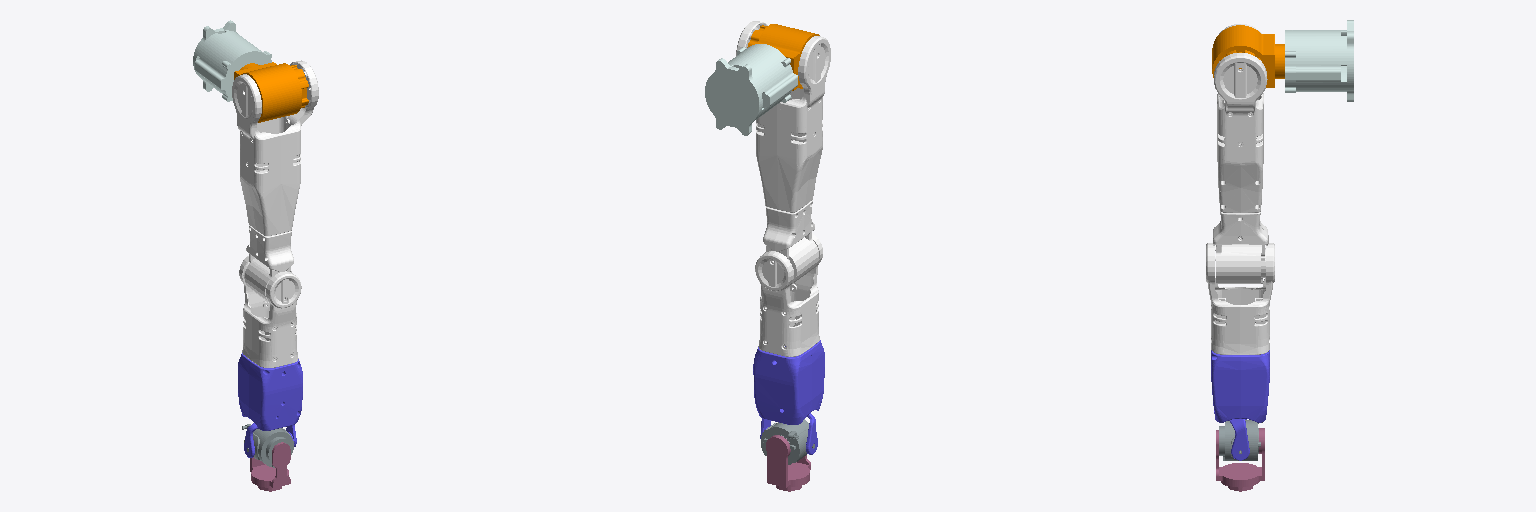
URDF robot description (yam_7dof_right):
<?xml version="1.0" ?>
<!-- Generated using onshape-to-robot -->
<!-- Onshape document_id: a30d2ef2655863e671c75240 -->
<!-- onshape-heading: v1 applied 2026-09-17; rpy="0 1.5707963267948966 -1.5707963267948966"; tool=.claude/skills/transform-onshape-urdf/scripts/apply_urdf_heading.py -->
<!-- i2rt-port: v1 applied 2026-09-17; joint1/3/5/6 axes re-signed (<limit> negated and swapped with each) so the home-pose world axes are -y -x -z -y -z -x -y; joint7 origin right-multiplied by Rz(180) so the terminal `gripper` block carries over unchanged. That block is not export data: it is the canonical linear_4310 plus the split wrist, spliced in from the previous model. -->
<robot name="yam_7dof_right">
    <link name="base">
        <inertial>
            <origin xyz="1.95071e-05 -0.0497882 -3.13786e-05" rpy="0 1.57079632679 -1.57079632679" />
            <mass value="1.28789" />
            <inertia ixx="0.00160702" ixy="6.64e-10" ixz="1.53831e-06" iyy="0.00153482" iyz="-9.41377e-07" izz="0.00129912" />
        </inertial>
        <visual>
            <origin xyz="0 -0.1565 -0.112133" rpy="0 1.57079632679 -1.57079632679" />
            <geometry>
                <mesh filename="assets/base.stl" />
            </geometry>
            <material name="base_material">
                <color rgba="0.862745 0.937255 0.929412 1" />
            </material>
        </visual>
        <collision>
            <origin xyz="0 -0.1565 -0.112133" rpy="0 1.57079632679 -1.57079632679" />
            <geometry>
                <mesh filename="assets/base.stl" />
            </geometry>
        </collision>
    </link>
    <link name="link1">
        <inertial>
            <origin xyz="-0 -0.00383646 -0.0549694" rpy="0 0 0" />
            <mass value="1.0034" />
            <inertia ixx="0.00109454" ixy="-0" ixz="0" iyy="0.000939051" iyz="-3.052e-05" izz="0.000841783" />
        </inertial>
        <visual>
            <origin xyz="0.112133 -0 -0.062" rpy="3.14159 -0 -0" />
            <geometry>
                <mesh filename="assets/link1.stl" />
            </geometry>
            <material name="link1_material">
                <color rgba="1 0.6 0 1" />
            </material>
        </visual>
        <collision>
            <origin xyz="0.112133 -0 -0.062" rpy="3.14159 -0 -0" />
            <geometry>
                <mesh filename="assets/link1.stl" />
            </geometry>
        </collision>
    </link>
    <link name="link2">
        <inertial>
            <origin xyz="0.106908 8.70615e-07 0.0475462" rpy="0 0 0" />
            <mass value="0.95628" />
            <inertia ixx="0.00160881" ixy="-1.0518e-08" ixz="-0.000241694" iyy="0.00577331" iyz="1.6171e-08" izz="0.0052621" />
        </inertial>
        <visual>
            <origin xyz="0.112133 0 0.0501" rpy="-1.5708 -0 0" />
            <geometry>
                <mesh filename="assets/link2.stl" />
            </geometry>
            <material name="link2_material">
                <color rgba="1 1 1 1" />
            </material>
        </visual>
        <collision>
            <origin xyz="0.112133 0 0.0501" rpy="-1.5708 -0 0" />
            <geometry>
                <mesh filename="assets/link2.stl" />
            </geometry>
        </collision>
    </link>
    <link name="link3">
        <inertial>
            <origin xyz="-0.0011414 -2.4009e-05 -0.0698293" rpy="0 0 0" />
            <mass value="0.83983" />
            <inertia ixx="0.00095532" ixy="6.858e-08" ixz="-2.41461e-05" iyy="0.00109338" iyz="1.08025e-06" izz="0.00045315" />
        </inertial>
        <visual>
            <origin xyz="-0 -0 0.106867" rpy="1.5708 1.5708 0" />
            <geometry>
                <mesh filename="assets/link3.stl" />
            </geometry>
            <material name="link3_material">
                <color rgba="1 1 1 1" />
            </material>
        </visual>
        <collision>
            <origin xyz="-0 -0 0.106867" rpy="1.5708 1.5708 0" />
            <geometry>
                <mesh filename="assets/link3.stl" />
            </geometry>
        </collision>
    </link>
    <link name="link4">
        <inertial>
            <origin xyz="0.0654359 9.05861e-07 0.0354242" rpy="0 0 0" />
            <mass value="0.66056" />
            <inertia ixx="0.00105591" ixy="-1.368e-08" ixz="-2.38897e-06" iyy="0.00199688" iyz="-6.15e-09" izz="0.00160454" />
        </inertial>
        <visual>
            <origin xyz="-0.196267 0 0.0354495" rpy="-1.5708 -0 -0" />
            <geometry>
                <mesh filename="assets/link4.stl" />
            </geometry>
            <material name="link4_material">
                <color rgba="1 1 1 1" />
            </material>
        </visual>
        <collision>
            <origin xyz="-0.196267 0 0.0354495" rpy="-1.5708 -0 -0" />
            <geometry>
                <mesh filename="assets/link4.stl" />
            </geometry>
        </collision>
    </link>
    <link name="link5">
        <inertial>
            <origin xyz="-0.00468947 -0.000452694 -0.0656789" rpy="0 0 0" />
            <mass value="0.6884" />
            <inertia ixx="0.001363" ixy="4.02887e-06" ixz="-6.7093e-05" iyy="0.00128827" iyz="-1.19113e-05" izz="0.000864955" />
        </inertial>
        <visual>
            <origin xyz="5.21807e-07 0 0.319767" rpy="1.5708 1.5708 0" />
            <geometry>
                <mesh filename="assets/link5.stl" />
            </geometry>
            <material name="link5_material">
                <color rgba="0.447059 0.415686 1 1" />
            </material>
        </visual>
        <collision>
            <origin xyz="5.21807e-07 0 0.319767" rpy="1.5708 1.5708 0" />
            <geometry>
                <mesh filename="assets/link5.stl" />
            </geometry>
        </collision>
    </link>
    <link name="link6">
        <inertial>
            <origin xyz="-6.47372e-05 0.000188696 -0.038139" rpy="0 0 0" />
            <mass value="0.4074" />
            <inertia ixx="0.000183696" ixy="1.99675e-06" ixz="-1.07788e-06" iyy="0.00017194" iyz="1.27128e-06" izz="0.000168067" />
        </inertial>
        <visual>
            <origin xyz="-0.467267 5.21807e-07 -0.038" rpy="-0 -0 0" />
            <geometry>
                <mesh filename="assets/link6.stl" />
            </geometry>
            <material name="link6_material">
                <color rgba="0.611765 0.658824 0.670588 1" />
            </material>
        </visual>
        <collision>
            <origin xyz="-0.467267 5.21807e-07 -0.038" rpy="-0 -0 0" />
            <geometry>
                <mesh filename="assets/link6.stl" />
            </geometry>
        </collision>
    </link>
    <link name="gripper">
        <inertial>
            <origin xyz="-0.0982143 0.0003297066 0.025387629" rpy="0 0 0" />
            <mass value="0.553219" />
            <inertia ixx="0.000369248826123" ixy="-7.91271674801e-07" ixz="4.83956503021e-06" iyy="0.000409668107867" iyz="5.44942466283e-07" izz="0.00032494206601" />
        </inertial>
        <visual>
            <origin xyz="0.004199 0.014294 0.0720365" rpy="-1.57079632679 0 -1.57079632679" />
            <geometry>
                <mesh filename="assets/gripper.stl" />
            </geometry>
            <material name="gripper_material">
                <color rgba="0.109804 0.286275 0.0117647 1" />
            </material>
        </visual>
        <collision>
            <origin xyz="0.004199 0.014294 0.0720365" rpy="-1.57079632679 0 -1.57079632679" />
            <geometry>
                <mesh filename="assets/gripper.stl" />
            </geometry>
        </collision>
        <visual>
            <origin xyz="-0.398708 0.192838 -1.68458" rpy="0.126639 0.261799 0" />
            <geometry>
                <mesh filename="assets/wrist.stl" />
            </geometry>
            <material name="wrist_material">
                <color rgba="0.694118 0.458824 0.576471 1" />
            </material>
        </visual>
        <collision>
            <origin xyz="-0.398708 0.192838 -1.68458" rpy="0.126639 0.261799 0" />
            <geometry>
                <mesh filename="assets/wrist.stl" />
            </geometry>
        </collision>
    </link>
    <link name="tip_left">
        <inertial>
            <origin xyz="-0.0224716 0.0143408 -0.0426253" rpy="0 0 0" />
            <mass value="0.0710042" />
            <inertia ixx="4.8235123385e-05" ixy="1.03366001935e-05" ixz="-1.13904016536e-05" iyy="5.19530369196e-05" iyz="1.10487003583e-05" izz="5.06981396954e-05" />
        </inertial>
        <visual>
            <origin xyz="0.129783 0.00999321 -0.0914614" rpy="1.57080032679 -8.00004507084e-12 1.57080032679" />
            <geometry>
                <mesh filename="assets/tip_left.stl" />
            </geometry>
            <material name="tip_left_material">
                <color rgba="0.596078 0.788235 0.921569 1" />
            </material>
        </visual>
        <collision>
            <origin xyz="0.129783 0.00999321 -0.0914614" rpy="1.57080032679 -8.00004507084e-12 1.57080032679" />
            <geometry>
                <mesh filename="assets/tip_left.stl" />
            </geometry>
        </collision>
    </link>
    <link name="tip_right">
        <inertial>
            <origin xyz="-0.0143408 -0.0224716 -0.0426253" rpy="0 0 0" />
            <mass value="0.0710042" />
            <inertia ixx="5.19530428654e-05" ixy="-1.03366033432e-05" ixz="-1.10486926531e-05" iyy="4.82351079161e-05" iyz="-1.13904042695e-05" izz="5.06981492185e-05" />
        </inertial>
        <visual>
            <origin xyz="-0.0379932 0.129783 0.00133753" rpy="-1.57080056944 0 0" />
            <geometry>
                <mesh filename="assets/tip_right.stl" />
            </geometry>
            <material name="tip_right_material">
                <color rgba="0.596078 0.788235 0.921569 1" />
            </material>
        </visual>
        <collision>
            <origin xyz="-0.0379932 0.129783 0.00133753" rpy="-1.57080056944 0 0" />
            <geometry>
                <mesh filename="assets/tip_right.stl" />
            </geometry>
        </collision>
    </link>
    <joint name="joint1" type="revolute">
        <origin xyz="0.000116187 -0.0945 0" rpy="0 1.57079632679 1.57079898038" />
        <parent link="base" />
        <child link="link1" />
        <axis xyz="0 0 -1" />
        <limit effort="10" velocity="10" lower="-2.79253" upper="2.79253" />
    </joint>
    <joint name="joint2" type="revolute">
        <origin xyz="-0 -0.0501 -0.062" rpy="-1.5708 1e-12 -0" />
        <parent link="link1" />
        <child link="link2" />
        <axis xyz="0 0 1" />
        <limit effort="10" velocity="10" lower="-0.436332" upper="3.57792" />
    </joint>
    <joint name="joint3" type="revolute">
        <origin xyz="0.219 -0 0.0501" rpy="1.5708 -0 -1.5708" />
        <parent link="link2" />
        <child link="link3" />
        <axis xyz="0 0 -1" />
        <limit effort="10" velocity="10" lower="-1.832596" upper="1.832596" />
    </joint>
    <joint name="joint4" type="revolute">
        <origin xyz="0.03545 -0 -0.0894" rpy="-3.14159 1.5708 0" />
        <parent link="link3" />
        <child link="link4" />
        <axis xyz="0 0 1" />
        <limit effort="10" velocity="10" lower="-2.0944" upper="2.0944" />
    </joint>
    <joint name="joint5" type="revolute">
        <origin xyz="0.1235 0 0.03545" rpy="3.14159 1.5708 0" />
        <parent link="link4" />
        <child link="link5" />
        <axis xyz="0 0 -1" />
        <limit effort="10" velocity="10" lower="-1.8326" upper="1.8326" />
    </joint>
    <joint name="joint6" type="revolute">
        <origin xyz="0 -0.0381 -0.1475" rpy="1.5708 1.5708 0" />
        <parent link="link5" />
        <child link="link6" />
        <axis xyz="0 0 -1" />
        <limit effort="10" velocity="10" lower="-0.959931" upper="0.785398" />
    </joint>
    <joint name="joint7" type="revolute">
        <origin xyz="4.47332e-06 0.02565 -0.0380064" rpy="-1.5708 0 -3.14159265359" />
        <parent link="link6" />
        <child link="gripper" />
        <axis xyz="0 0 1" />
        <limit effort="10" velocity="10" lower="-1.5708" upper="1.5708" />
    </joint>
    <joint name="joint8" type="prismatic">
        <origin xyz="-0.1255839 0.0241921 -0.0194249" rpy="3.14158865359 8.00026711545e-12 3.99999999989e-06" />
        <parent link="gripper" />
        <child link="tip_left" />
        <axis xyz="0 0 -1" />
        <limit effort="10" velocity="10" lower="0" upper="0.0475" />
    </joint>
    <joint name="joint9" type="prismatic">
        <origin xyz="-0.1255839 -0.0236041 0.0706989" rpy="4.24264237431e-06 0 -1.57079632679" />
        <parent link="gripper" />
        <child link="tip_right" />
        <axis xyz="0 0 -1" />
        <limit effort="10" velocity="10" lower="0" upper="0.0475" />
    </joint>
</robot>

--- Facts derived from the render (not from the file) ---
The picture shows the robot from 3 angles, left to right: view 1: azimuth 30°, elevation 25°; view 2: azimuth 150°, elevation 25°; view 3: azimuth 270°, elevation 25°; orthographic projection.
Robot: yam_7dof_right — 10 links, 9 joints (7 revolute, 2 prismatic); root link base; default pose: every joint at zero.
Visible links, largest first — view 1: link2, link4, link5, base, link1, link3, gripper, link6; view 2: link2, base, link4, link5, link3, gripper, link1, link6; view 3: link2, link4, base, link5, link3, link1, gripper, link6.
Boxes of the visible links, x1=… form: link2: x1=232, y1=60, x2=318, y2=235; link4: x1=239, y1=256, x2=301, y2=367; link5: x1=238, y1=353, x2=302, y2=457; base: x1=193, y1=20, x2=271, y2=101; link1: x1=234, y1=62, x2=308, y2=122; link3: x1=244, y1=225, x2=293, y2=301; gripper: x1=250, y1=442, x2=290, y2=491; link6: x1=242, y1=424, x2=293, y2=467; link2: x1=736, y1=21, x2=830, y2=212; base: x1=705, y1=44, x2=797, y2=135; link4: x1=755, y1=233, x2=822, y2=356; link5: x1=753, y1=340, x2=824, y2=454; link3: x1=763, y1=200, x2=818, y2=284; gripper: x1=766, y1=435, x2=810, y2=491; link1: x1=747, y1=24, x2=819, y2=90; link6: x1=761, y1=419, x2=814, y2=464; link2: x1=1214, y1=24, x2=1267, y2=212; link4: x1=1206, y1=243, x2=1274, y2=354; base: x1=1285, y1=20, x2=1353, y2=101; link5: x1=1211, y1=350, x2=1269, y2=460; link3: x1=1213, y1=211, x2=1268, y2=283; link1: x1=1212, y1=25, x2=1284, y2=87; gripper: x1=1216, y1=428, x2=1264, y2=491; link6: x1=1219, y1=420, x2=1262, y2=460.
Bounding box of the posed robot: 0.114 × 0.2038 × 0.7006 m (x, y, z).
Meshes: 11 distinct files referenced, 8 mesh visuals loaded (8 binary STL); not drawn: 3 (reference not matched to a file when rendering).
